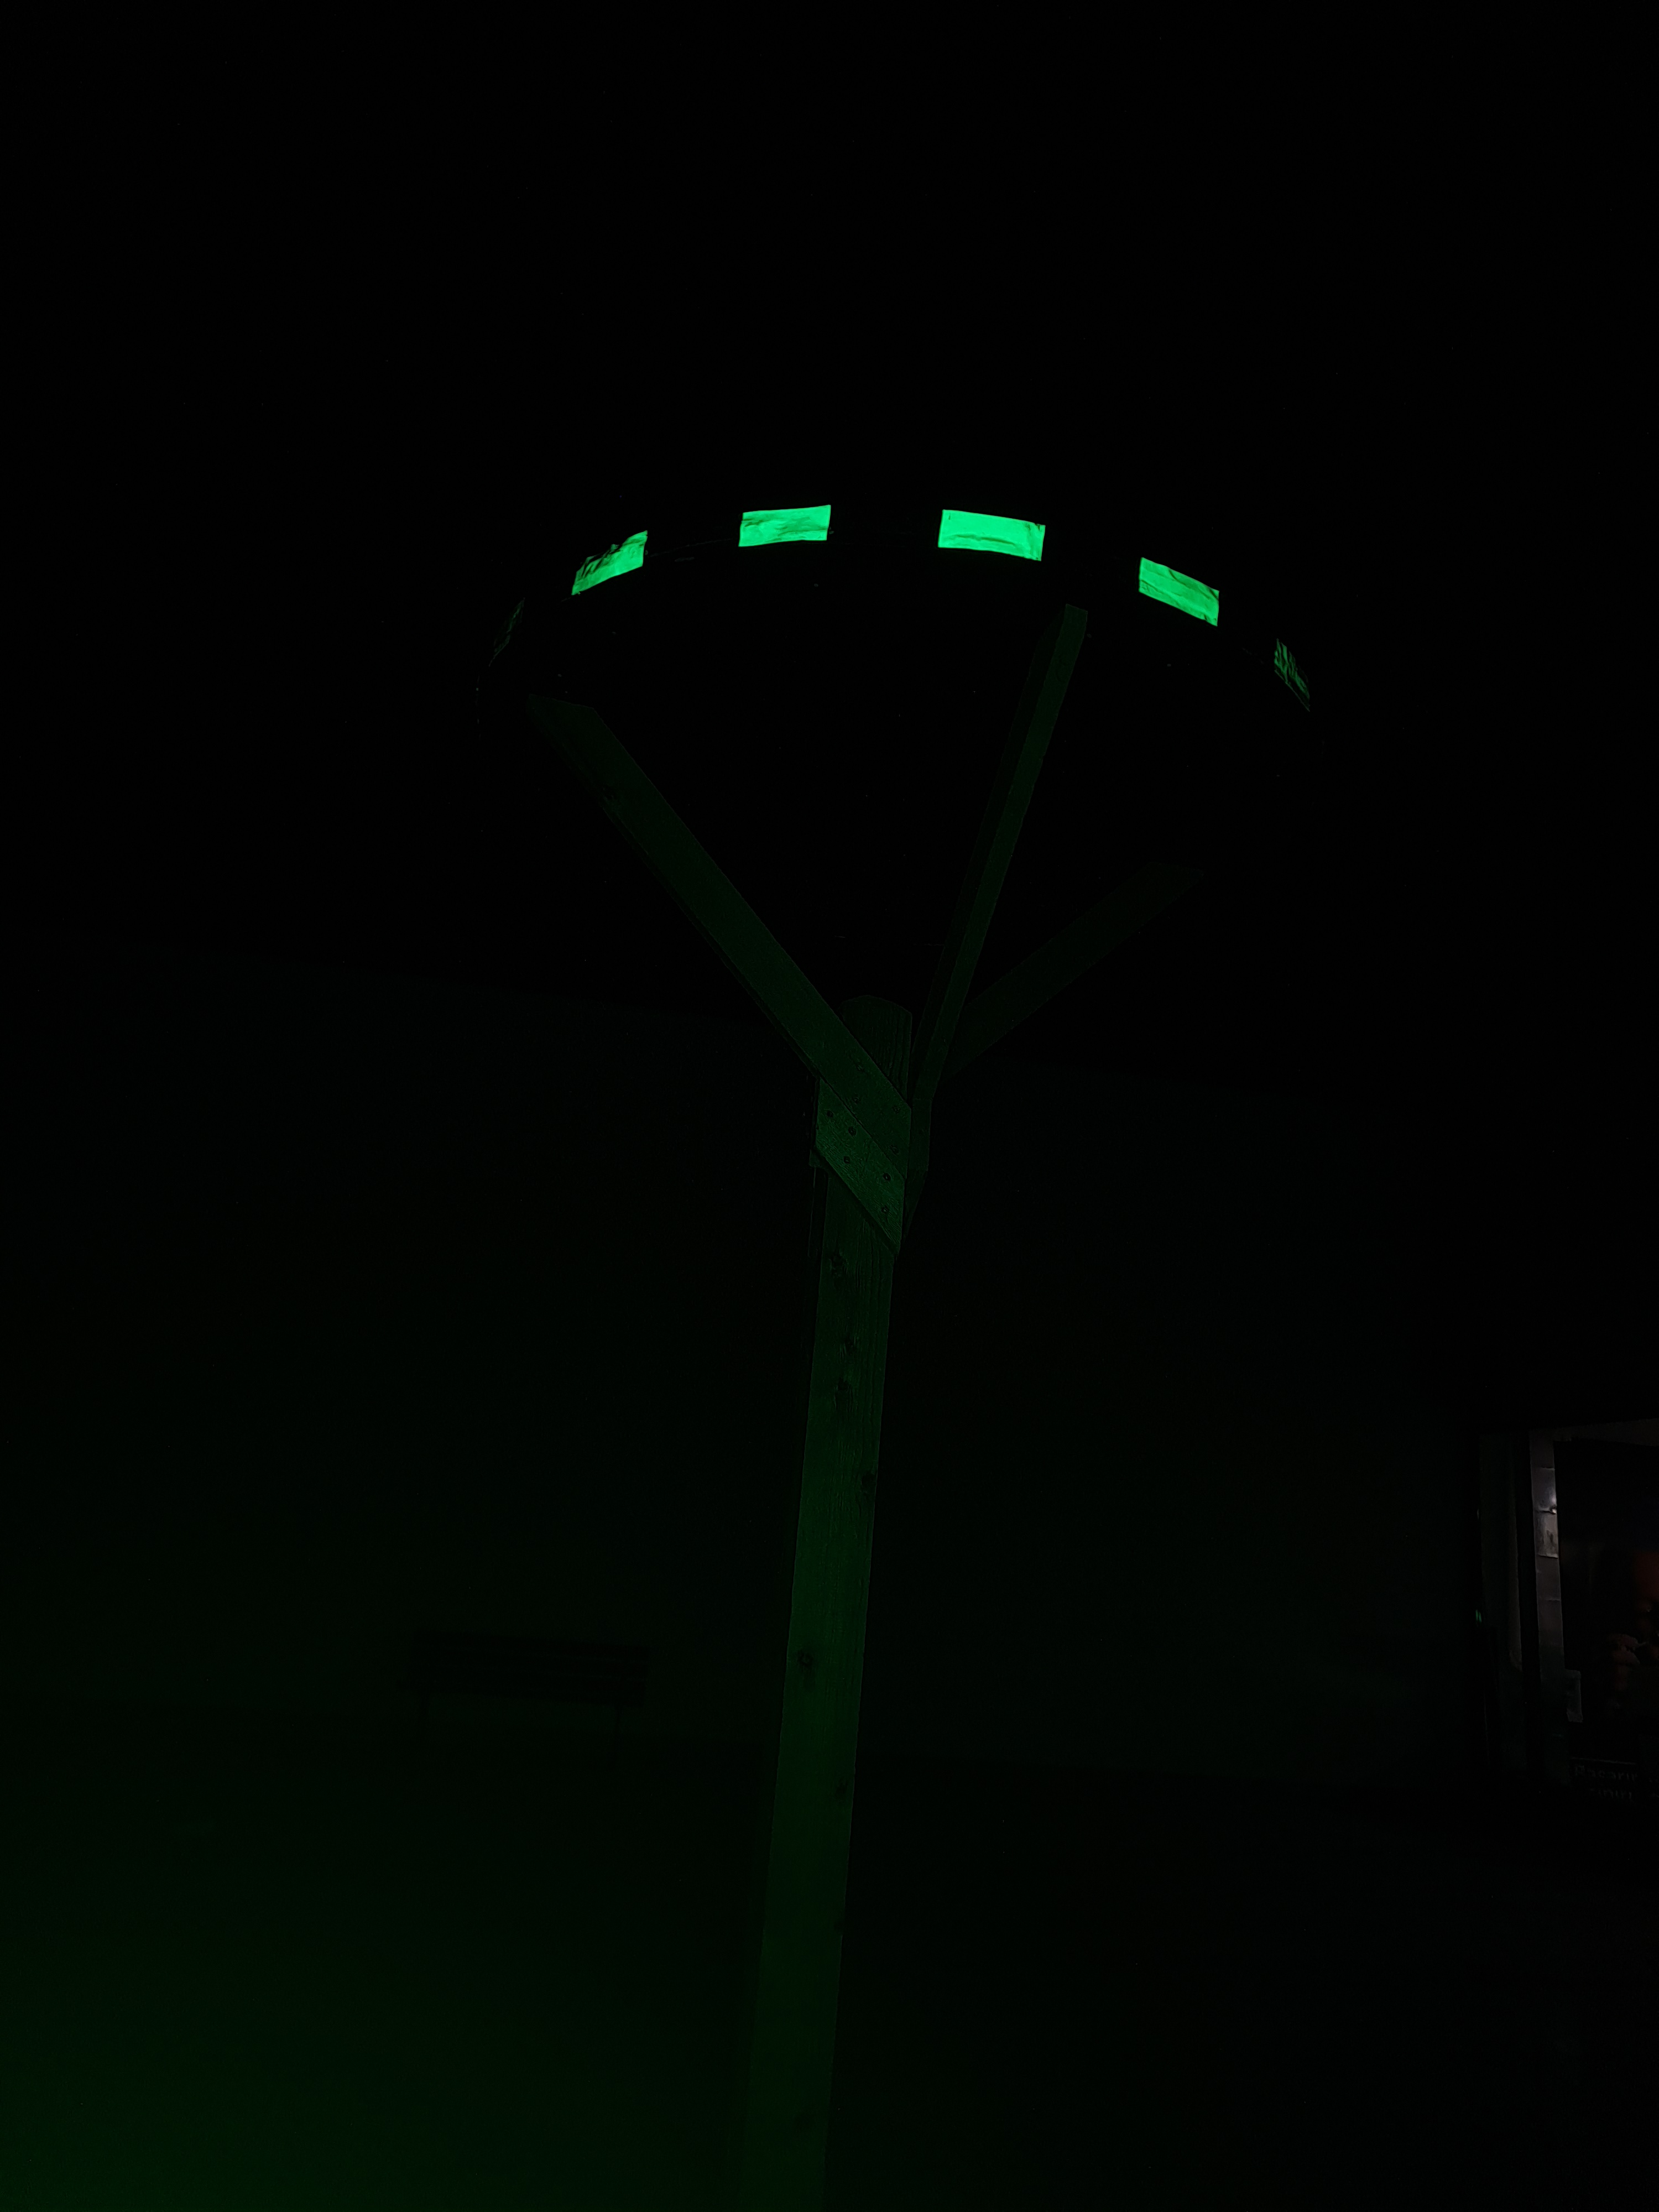hoop: (568, 495, 1310, 707)
